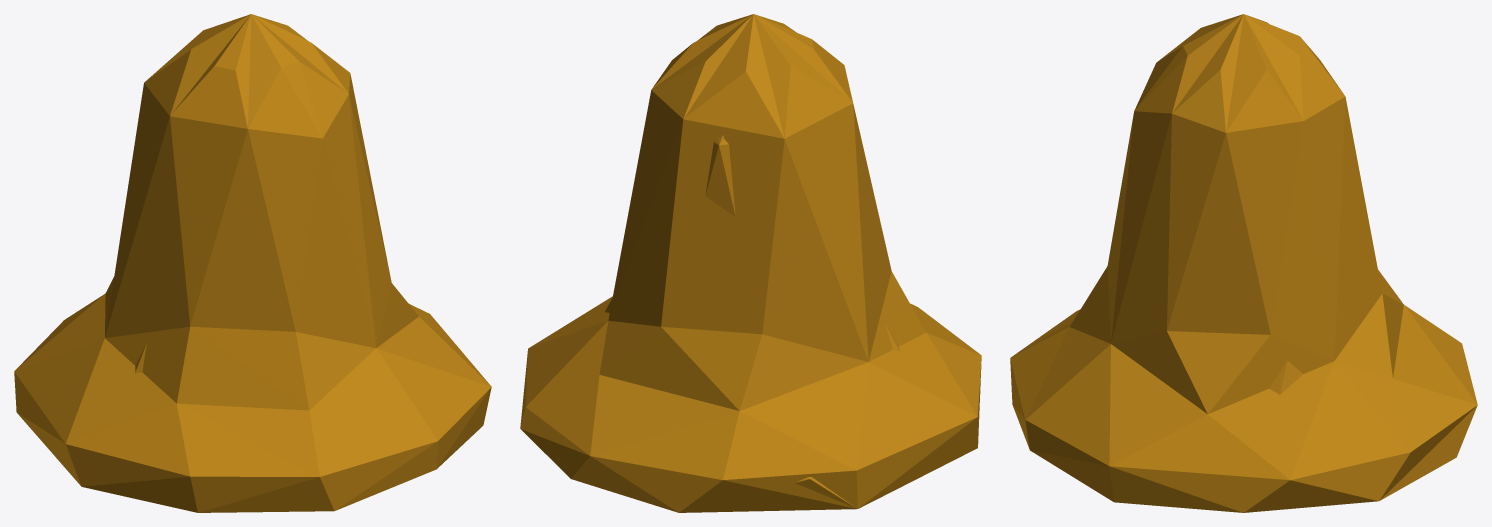
Rendered from ChurchBell_02.fbx.
The picture shows the model from 3 angles, left to right: view 1: azimuth 30°, elevation 25°; view 2: azimuth 150°, elevation 25°; view 3: azimuth 270°, elevation 25°; orthographic projection.
Parts seen in each view (by area): view 1: ChurchBell_02; view 2: ChurchBell_02; view 3: ChurchBell_02.
Part boxes in pixels (box(x1,y1,x2,y2)): ChurchBell_02: box(14, 14, 491, 512); ChurchBell_02: box(520, 14, 981, 512); ChurchBell_02: box(1010, 14, 1477, 512).
Size of the model in its own units: 99.57 by 94.8 by 98.86.
